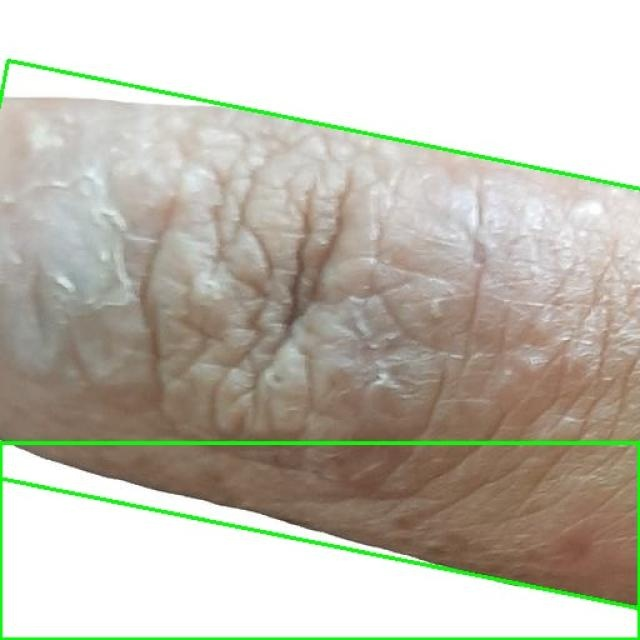Eczema: (0, 61, 640, 608), (0, 442, 639, 639)
